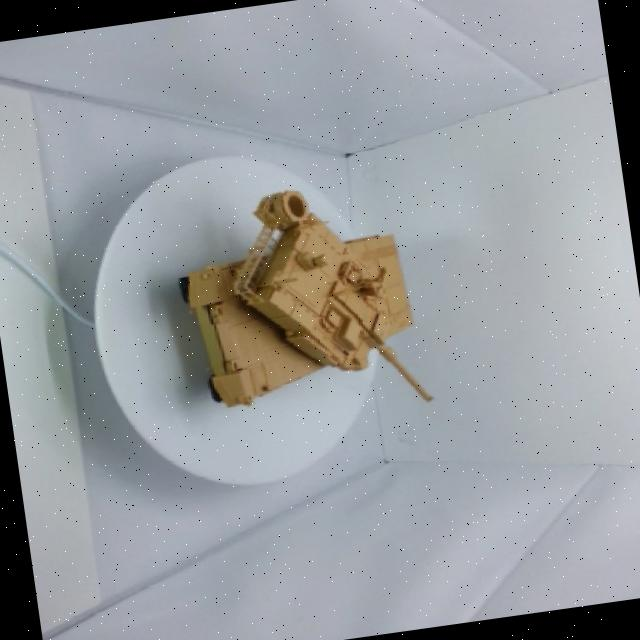korea tank: (145, 142, 482, 509)
